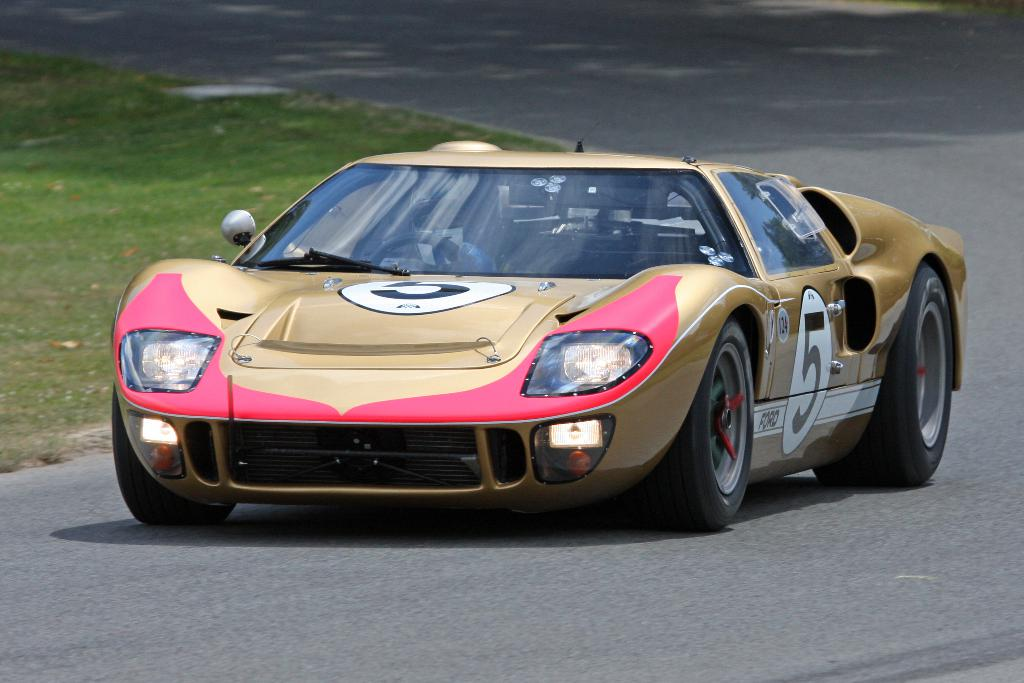Car: (110, 121, 963, 533)
